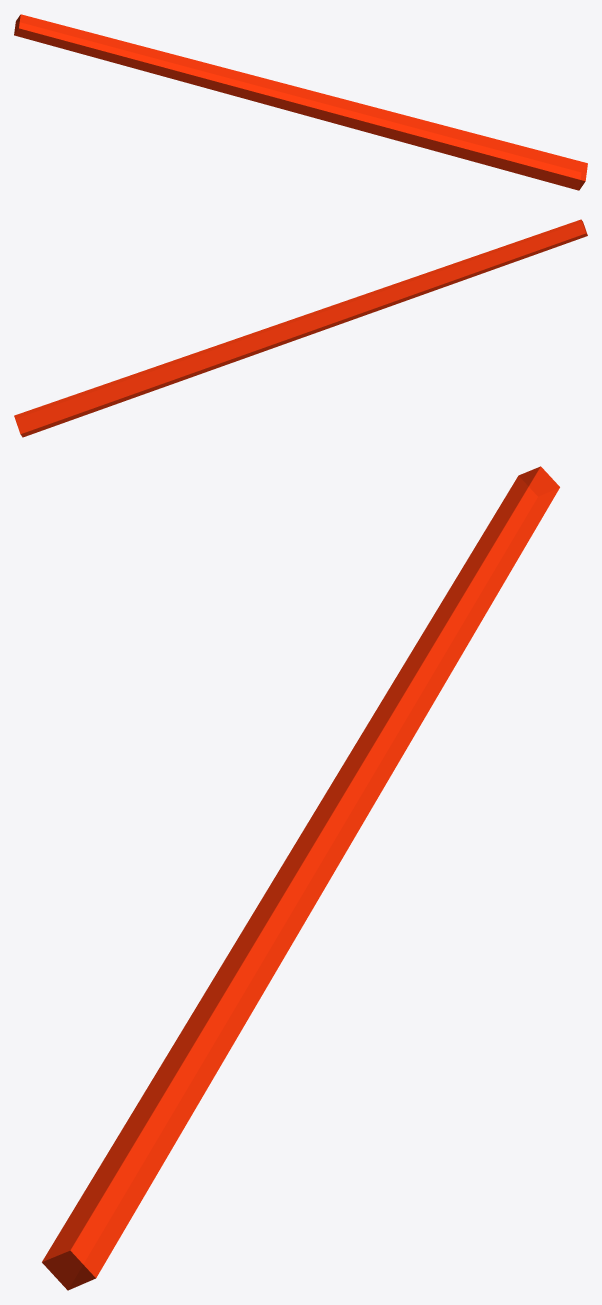
File: Event_421278790_EBrechit_19.fbx
3 views of the same model, one above another, from view 1: azimuth 30°, elevation 25°; view 2: azimuth 210°, elevation 25°; view 3: azimuth 270°, elevation 25° (orthographic). The views are drawn at different scales.
Visible parts, largest first — view 1: Model; view 2: Model; view 3: Model.
Part boxes in pixels (box(x1,y1,x2,y2)): Model: box(14, 14, 587, 190); Model: box(14, 219, 587, 437); Model: box(42, 466, 559, 1290).
Bounding box in the file's own units: 1.94 × 0.7997 × 0.9521.
